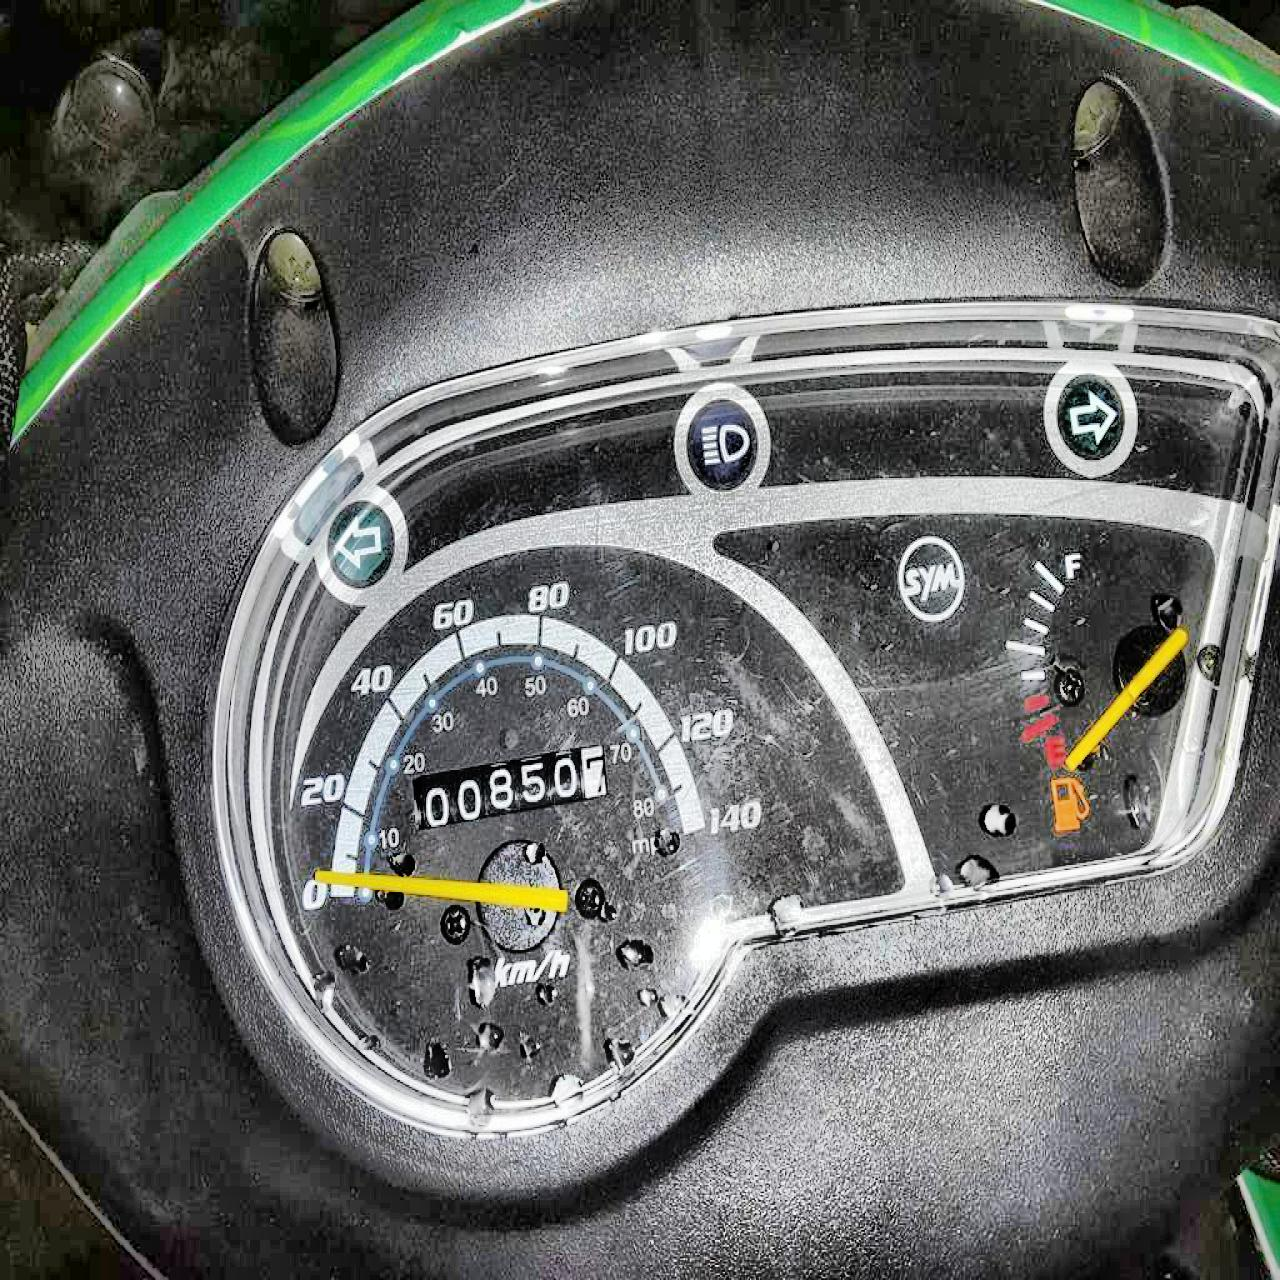0: (418, 783, 450, 826), (454, 778, 483, 822), (551, 755, 578, 799), (413, 748, 427, 771)
5: (520, 758, 547, 802)
7: (585, 754, 605, 797)
8: (488, 763, 513, 810)
odometer: (409, 742, 607, 831)
